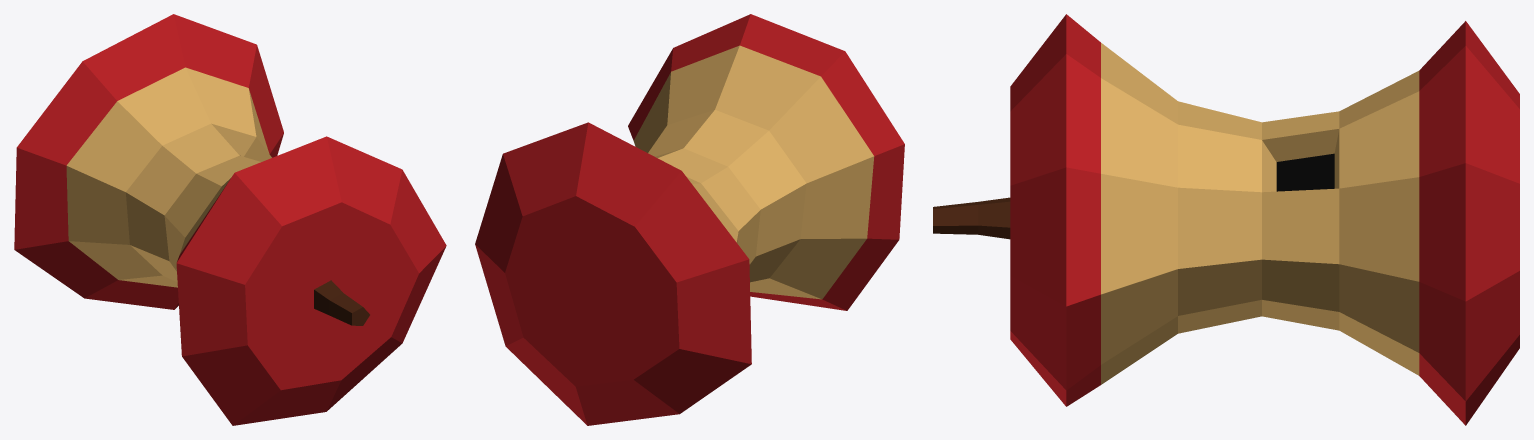
The model's file is apple.obj.
3 views of the same model, side by side, from view 1: azimuth 30°, elevation 25°; view 2: azimuth 150°, elevation 25°; view 3: azimuth 270°, elevation 25° (orthographic). The views are drawn at different scales.
Parts seen in each view (by area): view 1: Lowpoly_Apple_Core_Mesh; view 2: Lowpoly_Apple_Core_Mesh; view 3: Lowpoly_Apple_Core_Mesh.
Boxes of the visible parts, bbox=[...] form: Lowpoly_Apple_Core_Mesh: bbox=[14, 14, 446, 425]; Lowpoly_Apple_Core_Mesh: bbox=[475, 14, 904, 425]; Lowpoly_Apple_Core_Mesh: bbox=[933, 14, 1519, 425].
Size of the model in its own units: 1.27 by 1.3 by 1.82.
